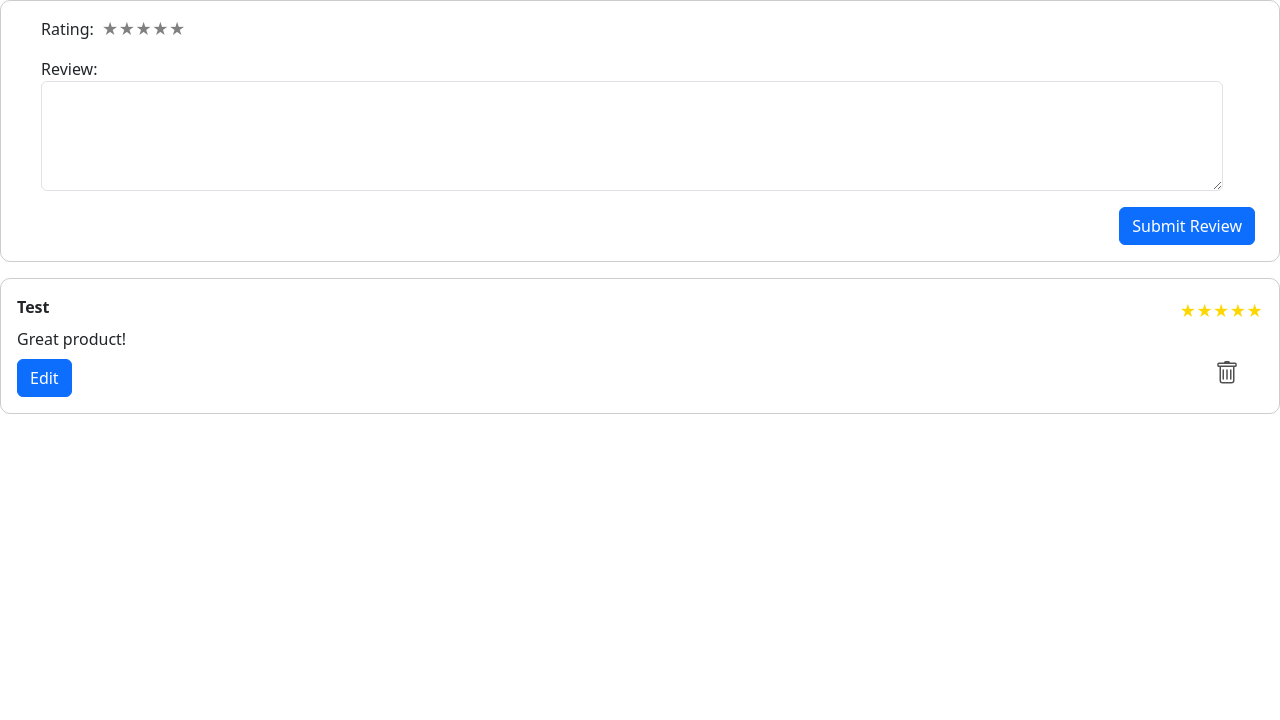
Test: Review Feature › Delete a review
Click the icon with class "delete-icon": x=1227, y=373 [1215,361,1239,385]
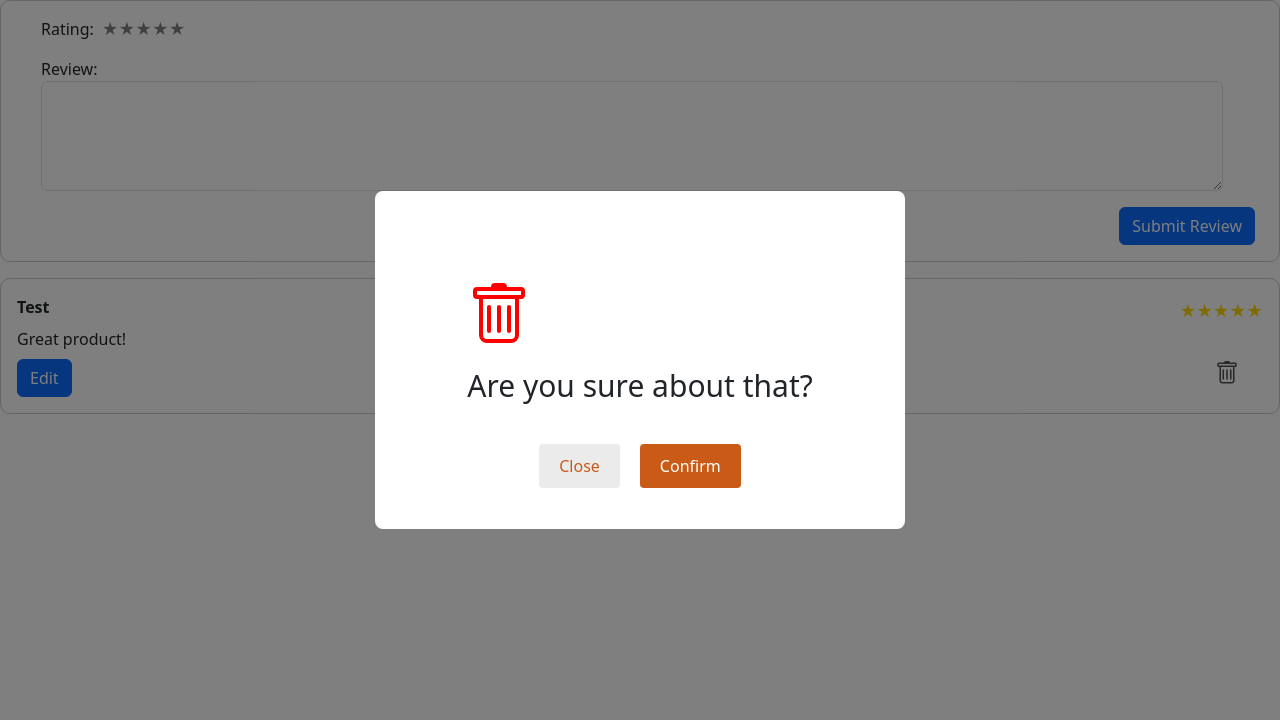
Click the button "Confirm": x=690, y=466 [640,444,741,488]
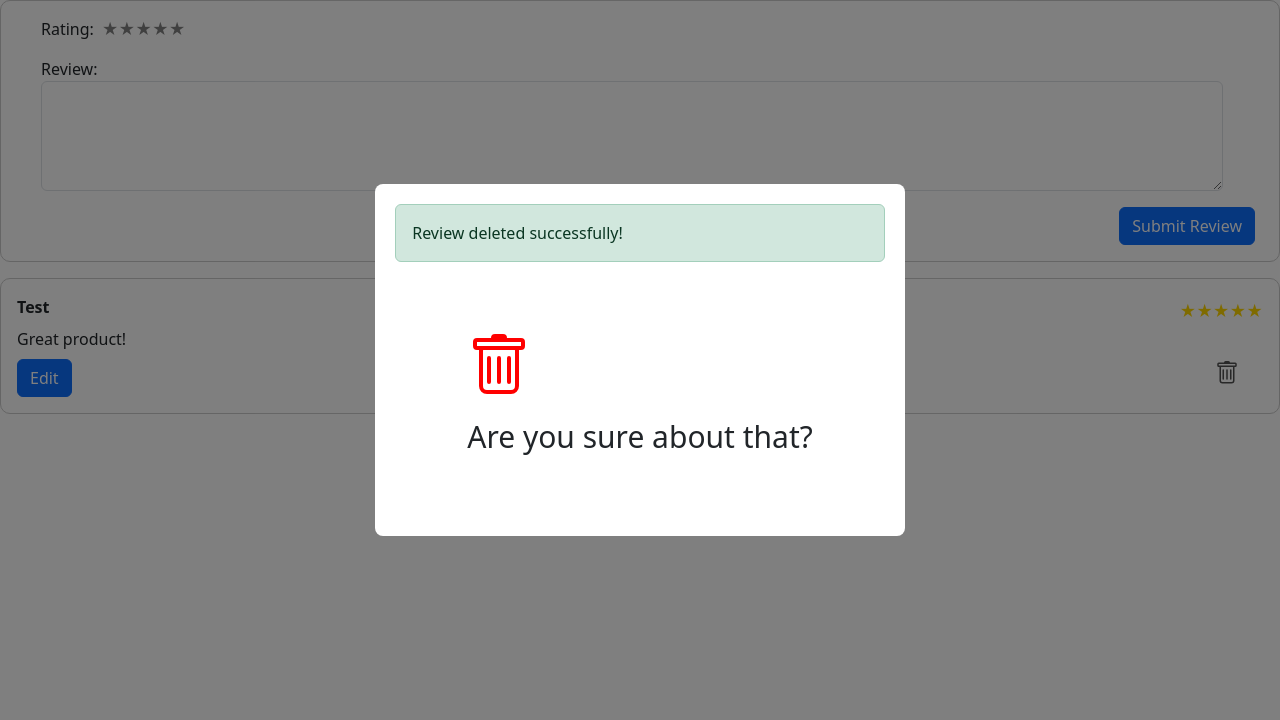
expect the text "Review deleted successfully!" is shown: met, box [395,204,885,262]
